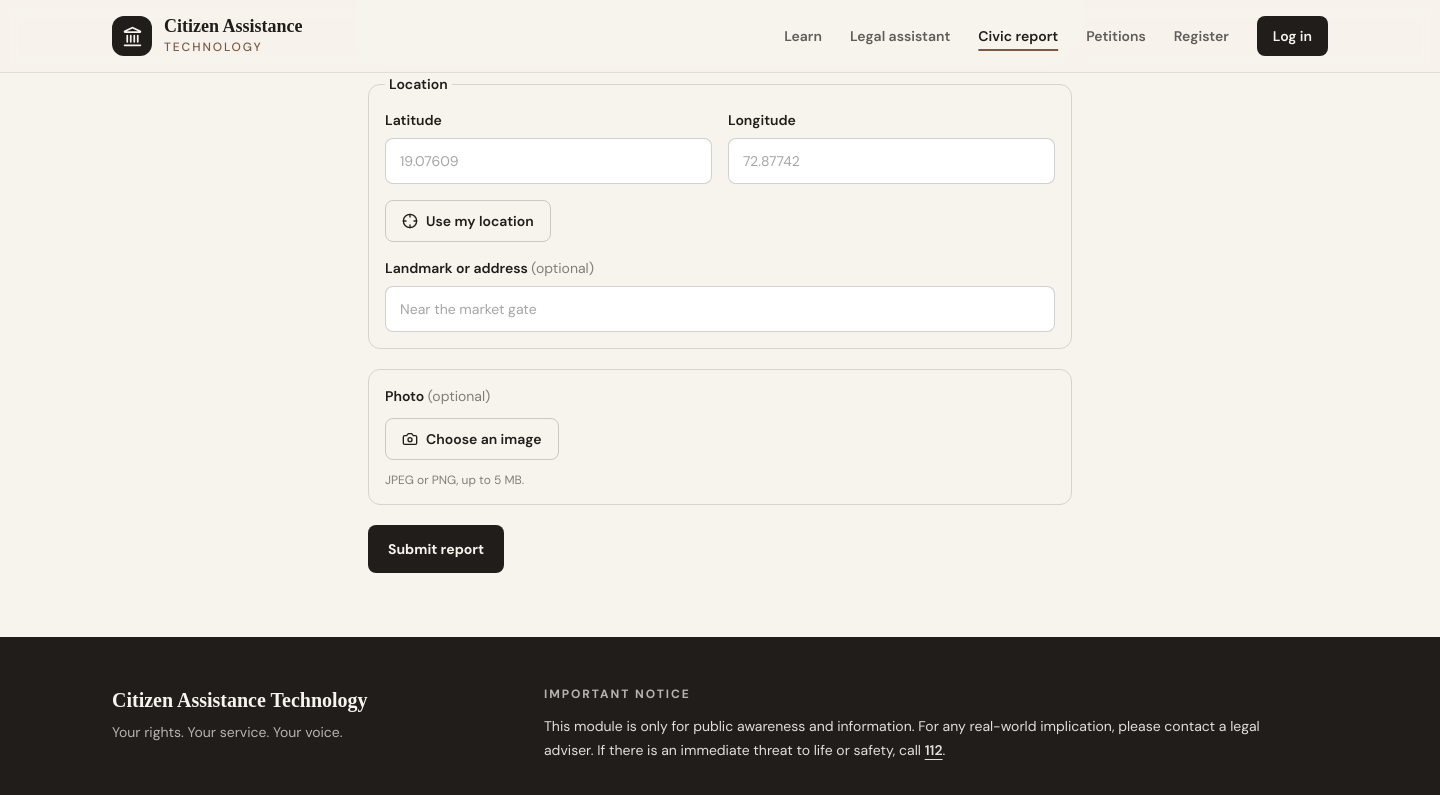
Test: ReportPage › blocks submission and reports validation errors on an empty form
(page scrolled)
Step 1. Click the button "Submit report" → (436, 549), box [368, 525, 504, 573]
(page scrolled)
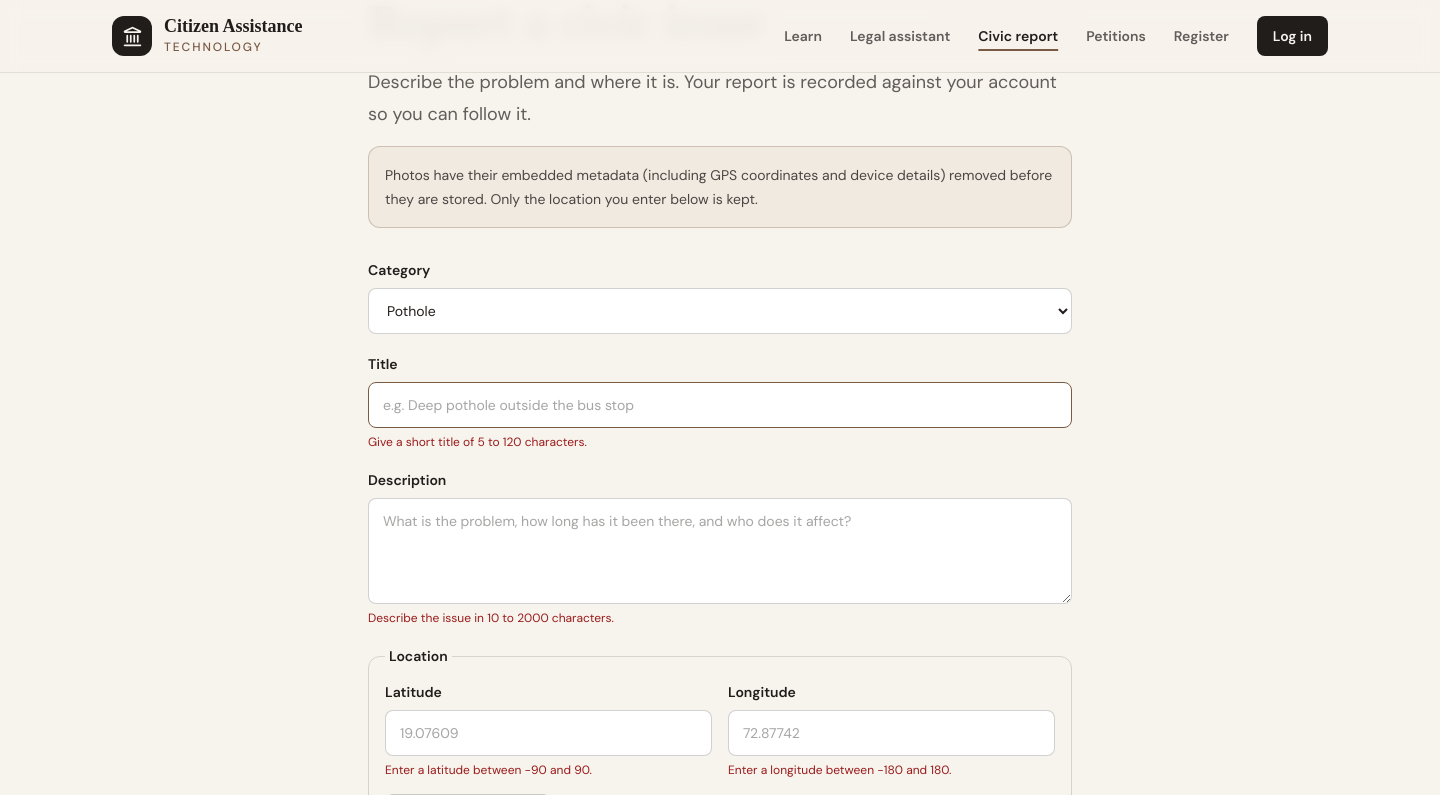
Check: the text "Give a short title of 5 to 120 characters." is shown, box [368, 434, 587, 450]
Check: the text "Describe the issue in 10 to 2000 characters." is shown, box [368, 610, 614, 626]
Check: the text "Enter a latitude between -90 and 90." is shown, box [385, 762, 592, 778]
